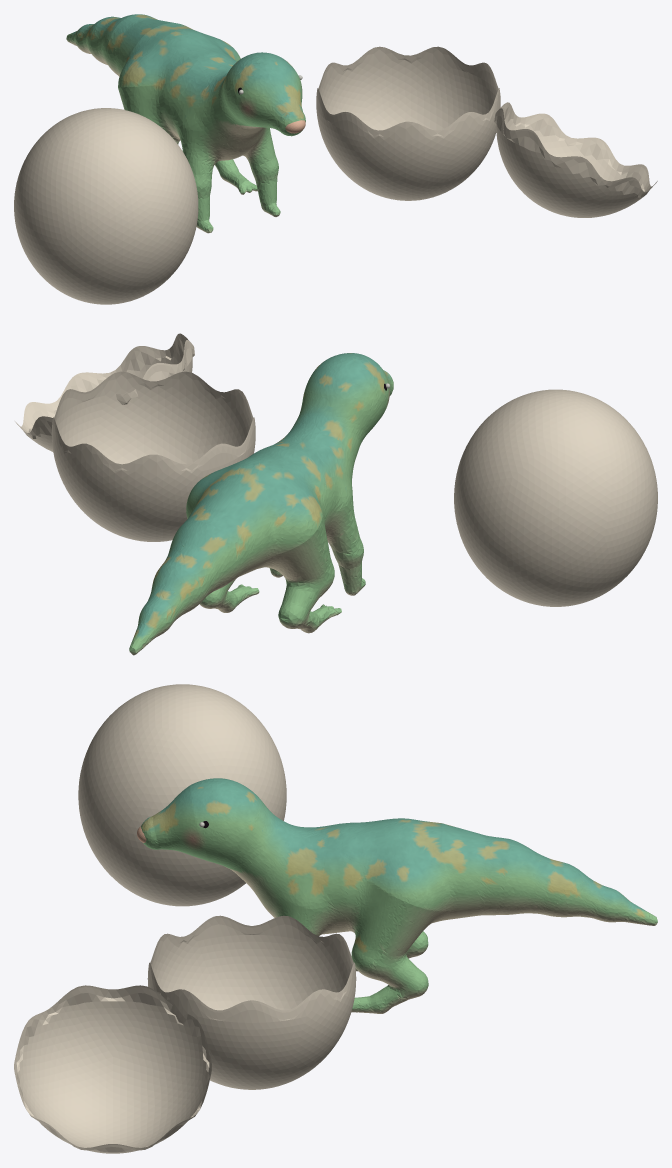
The model's file is bori_hatch.glb.
3 renders of one model, top to bottom at view 1: azimuth 30°, elevation 25°; view 2: azimuth 150°, elevation 25°; view 3: azimuth 270°, elevation 25°, orthographic. The views are drawn at different scales.
Visible parts, largest first — view 1: geometry_0; view 2: geometry_0; view 3: geometry_0.
Boxes of the visible parts, x1,y1,x2,y2 form: geometry_0: [14, 14, 657, 304]; geometry_0: [15, 333, 657, 655]; geometry_0: [14, 684, 657, 1153].
Size of the model in its own units: 0.4413 by 0.1338 by 0.3708.
